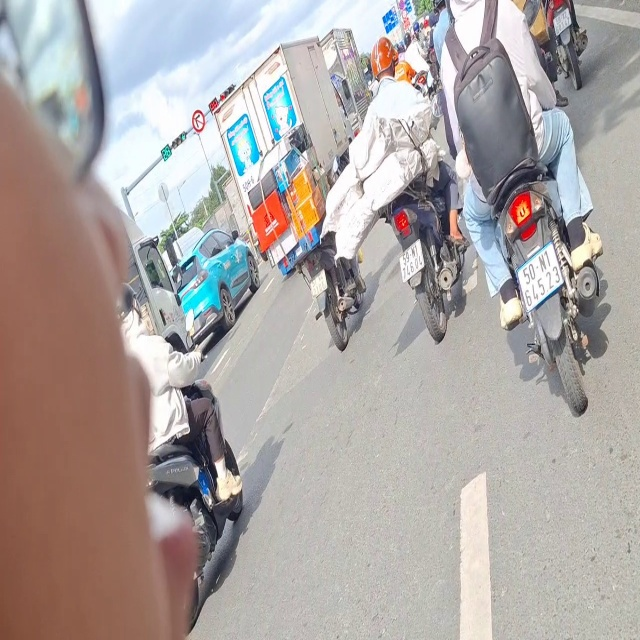cam queo phai: (181, 100, 212, 140)
